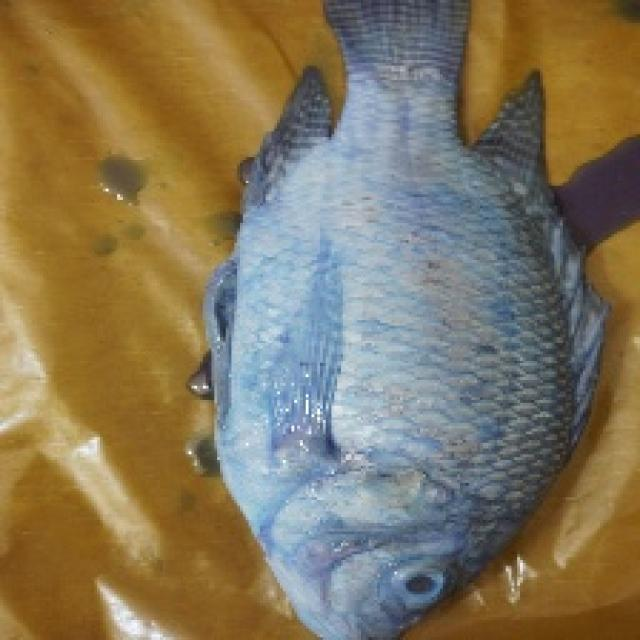Non-Fresh: (227, 8, 580, 640), (388, 551, 449, 616)
